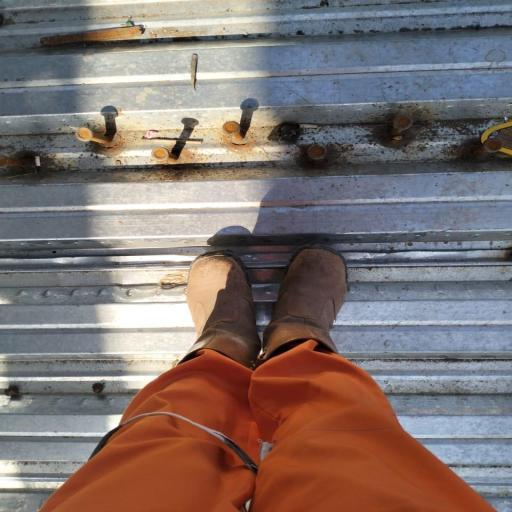safety_shoe: (161, 257, 264, 371), (266, 240, 357, 366)
